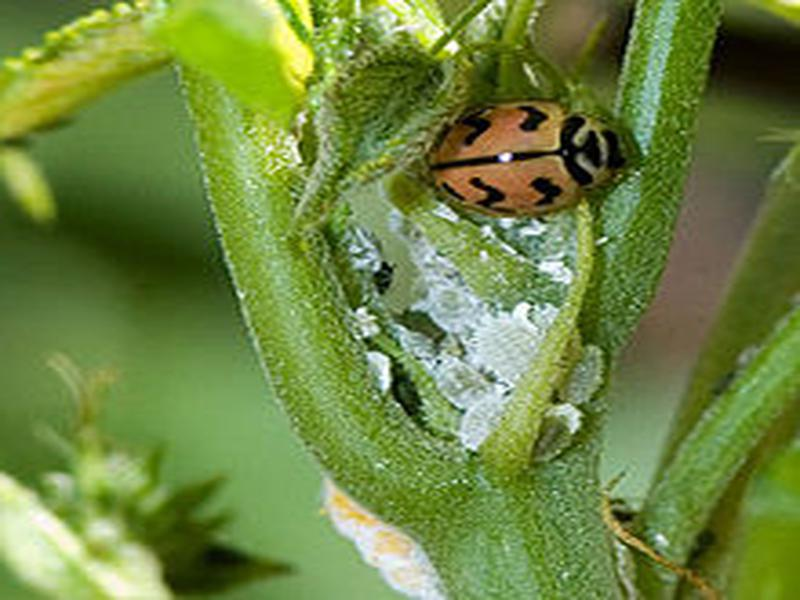Mealy_bug: (344, 256, 637, 463), (420, 74, 640, 232)
